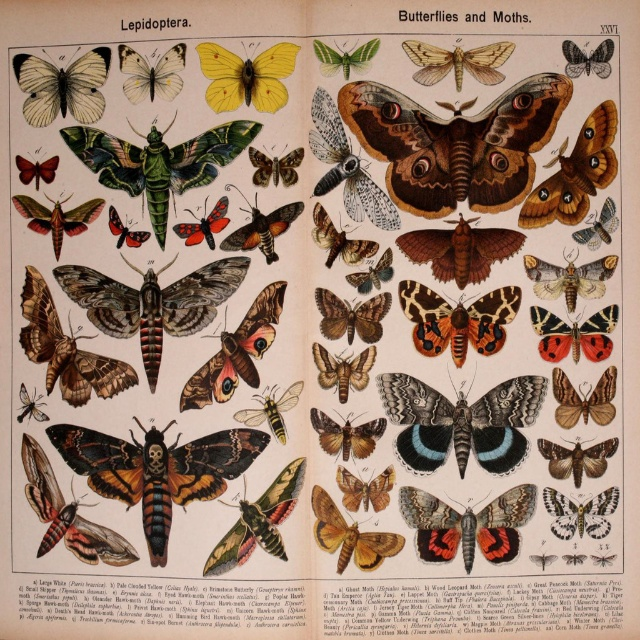Butterfly: (340, 74, 572, 220), (47, 423, 270, 570), (63, 102, 267, 245), (53, 252, 251, 392), (372, 369, 546, 487), (19, 268, 143, 413), (18, 431, 143, 572), (176, 276, 290, 414), (303, 85, 407, 233), (395, 480, 541, 580), (196, 452, 308, 579), (519, 97, 615, 232), (396, 278, 524, 369), (396, 208, 526, 289), (305, 483, 404, 577), (189, 36, 300, 114), (13, 47, 113, 129), (217, 181, 304, 264), (8, 190, 108, 260), (525, 245, 618, 314), (403, 39, 512, 91), (529, 306, 620, 365), (312, 199, 385, 268), (314, 286, 390, 352), (539, 484, 621, 545), (235, 385, 310, 451), (549, 361, 622, 428), (309, 342, 385, 405), (538, 434, 622, 491), (111, 43, 188, 101), (311, 405, 385, 463), (335, 459, 403, 506), (248, 139, 306, 190), (310, 38, 382, 79), (174, 196, 229, 246), (572, 195, 620, 249), (347, 245, 400, 292), (102, 206, 151, 249), (14, 155, 65, 194), (563, 40, 613, 79), (19, 376, 48, 428), (525, 550, 560, 570), (591, 551, 617, 571), (564, 551, 586, 569)
